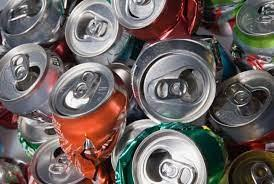metal: (128, 39, 247, 126), (48, 62, 132, 184), (62, 0, 205, 63), (108, 115, 234, 184), (0, 0, 68, 114), (0, 114, 90, 184), (197, 0, 274, 76), (227, 143, 274, 183)
